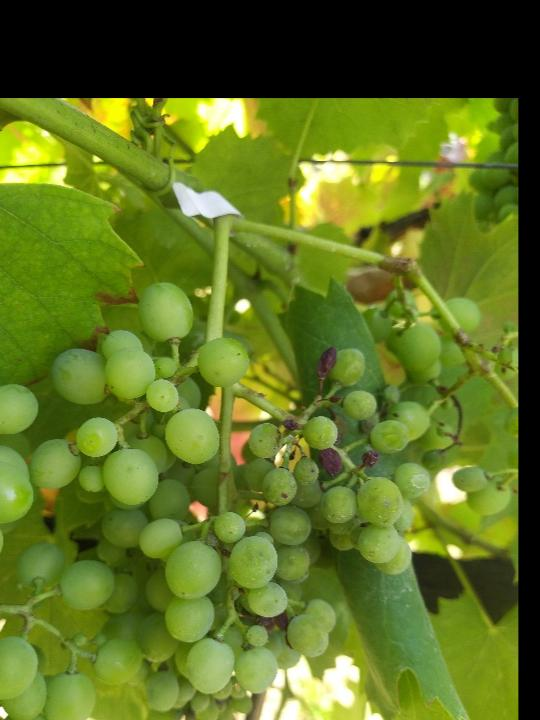grape: (47, 276, 436, 715)
